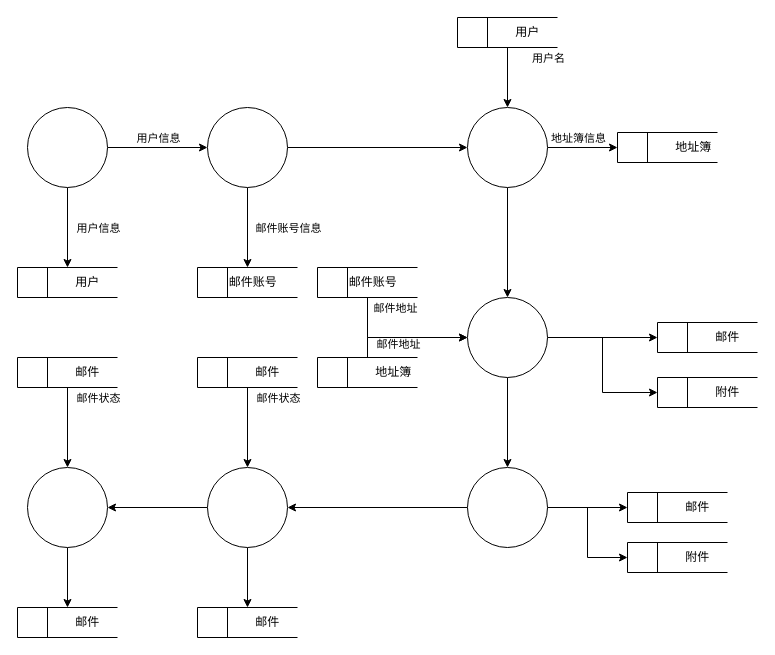
Image size: 775x655. Some labels were removed from this diagram. Each missing label, with the centre of its shape:
"删除邮件" belongs at (67,507).
"发送邮件" belongs at (507,337).
"接收邮件" belongs at (507,507).
"查看邮件" belongs at (247,507).
"注册用户" belongs at (67,147).
"添加联系人" belongs at (507,147).
"添加邮件账号" belongs at (247,147).
